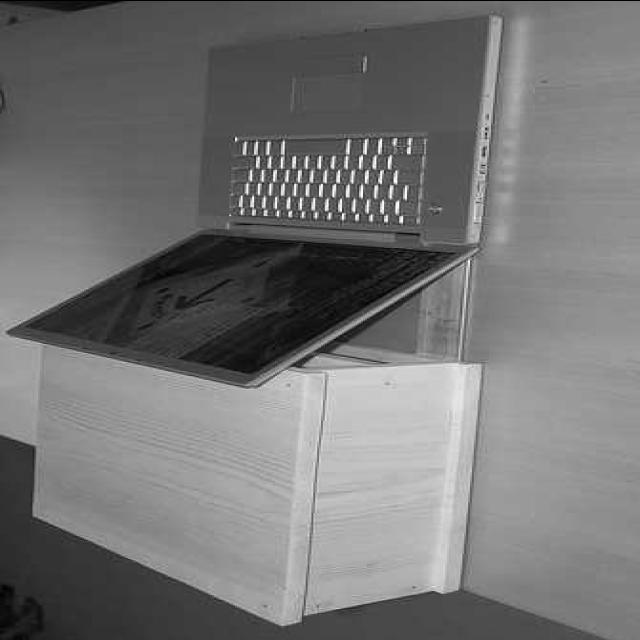laptop: (9, 32, 483, 384)
